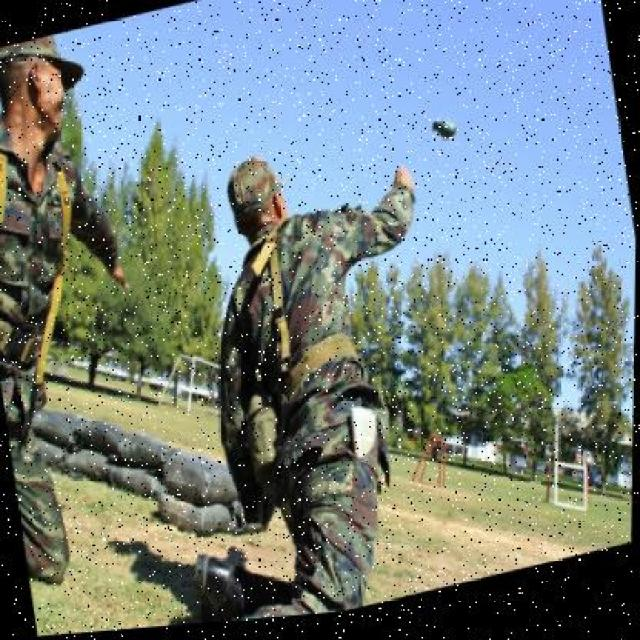MIL_Pax: (177, 160, 432, 626), (0, 22, 166, 526)
